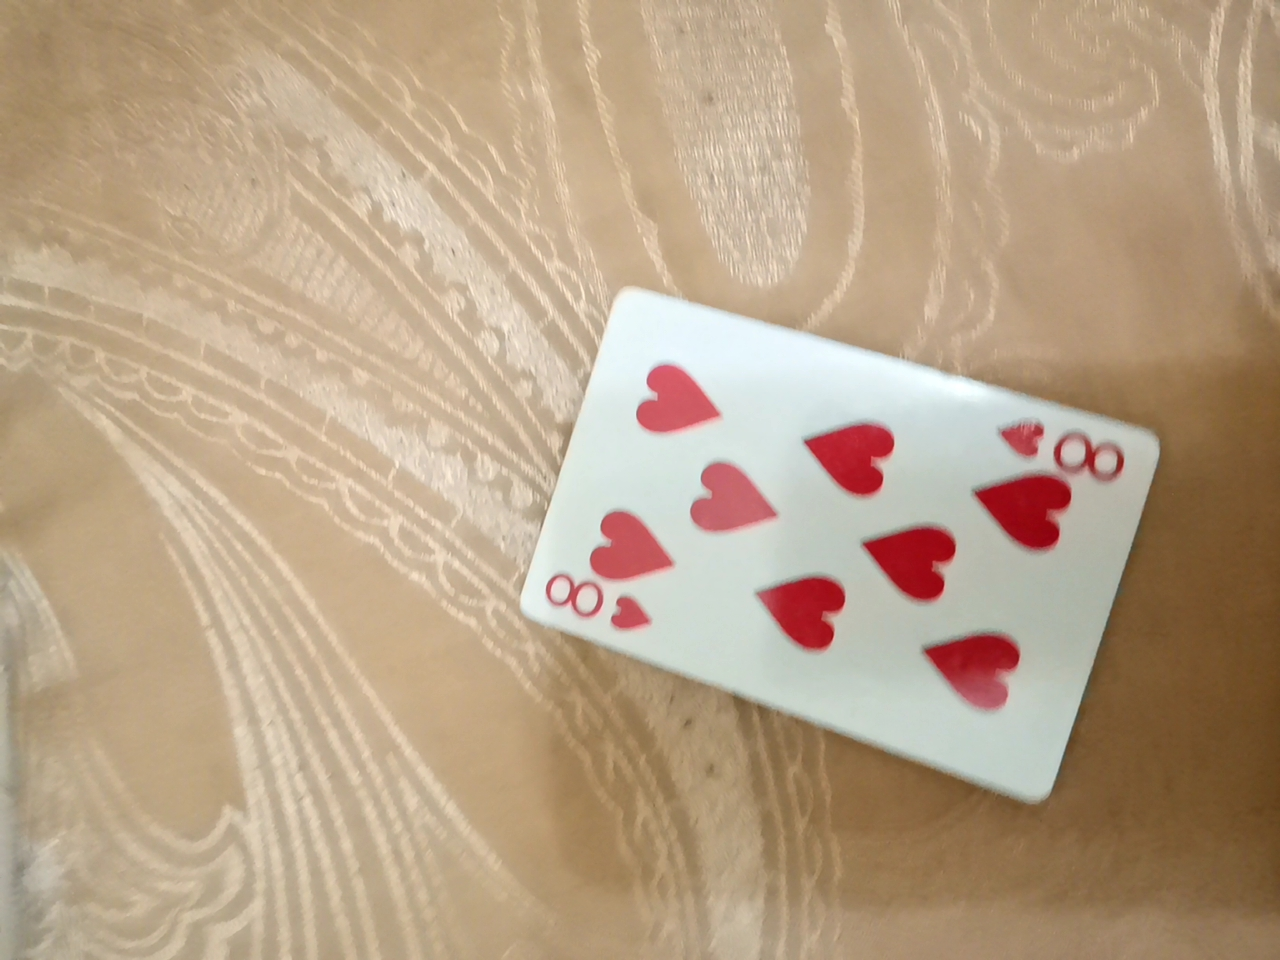hx 8: (511, 251, 1179, 769)
